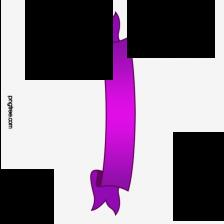purple: (89, 12, 134, 215)
